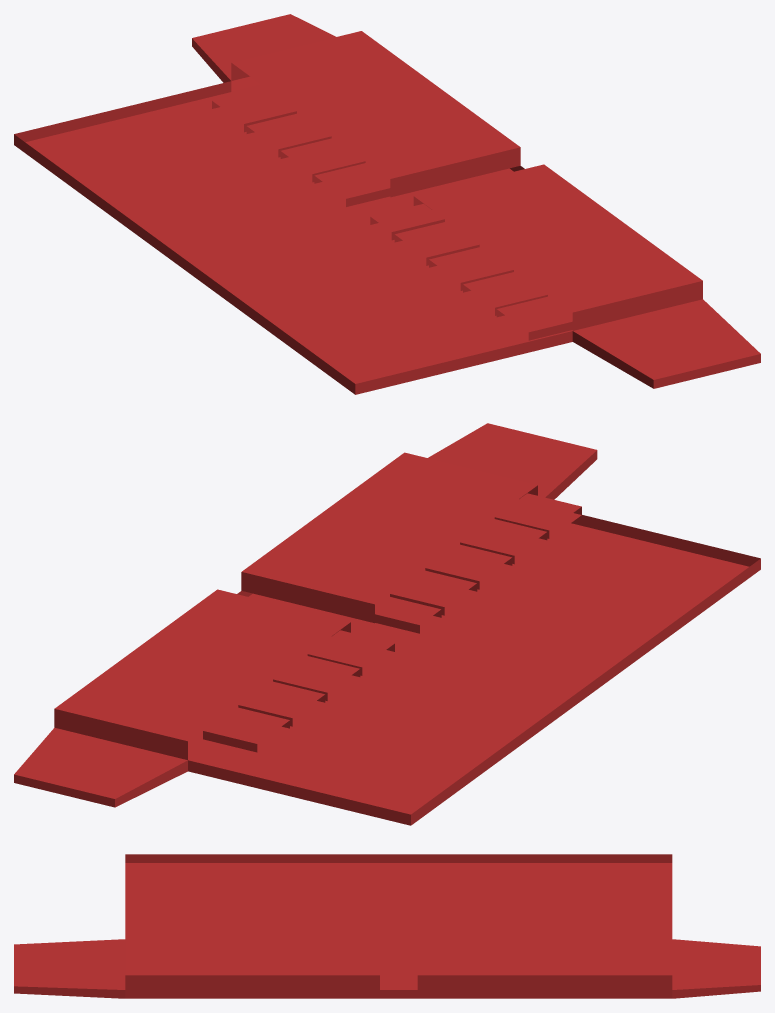
The model's file is portaTrucco.fbx.
The picture shows the model from 3 angles, top to bottom: view 1: azimuth 30°, elevation 25°; view 2: azimuth 150°, elevation 25°; view 3: azimuth 270°, elevation 25°; orthographic projection. The views are drawn at different scales.
Parts seen in each view (by area): view 1: portaTrucco; view 2: portaTrucco; view 3: portaTrucco.
Part boxes in pixels (x1,y1,x2,y2): portaTrucco: (14,14,760,394); portaTrucco: (14,423,760,825); portaTrucco: (14,854,760,998).
Size of the model in its own units: 0.2432 by 0.0196 by 0.5648.
